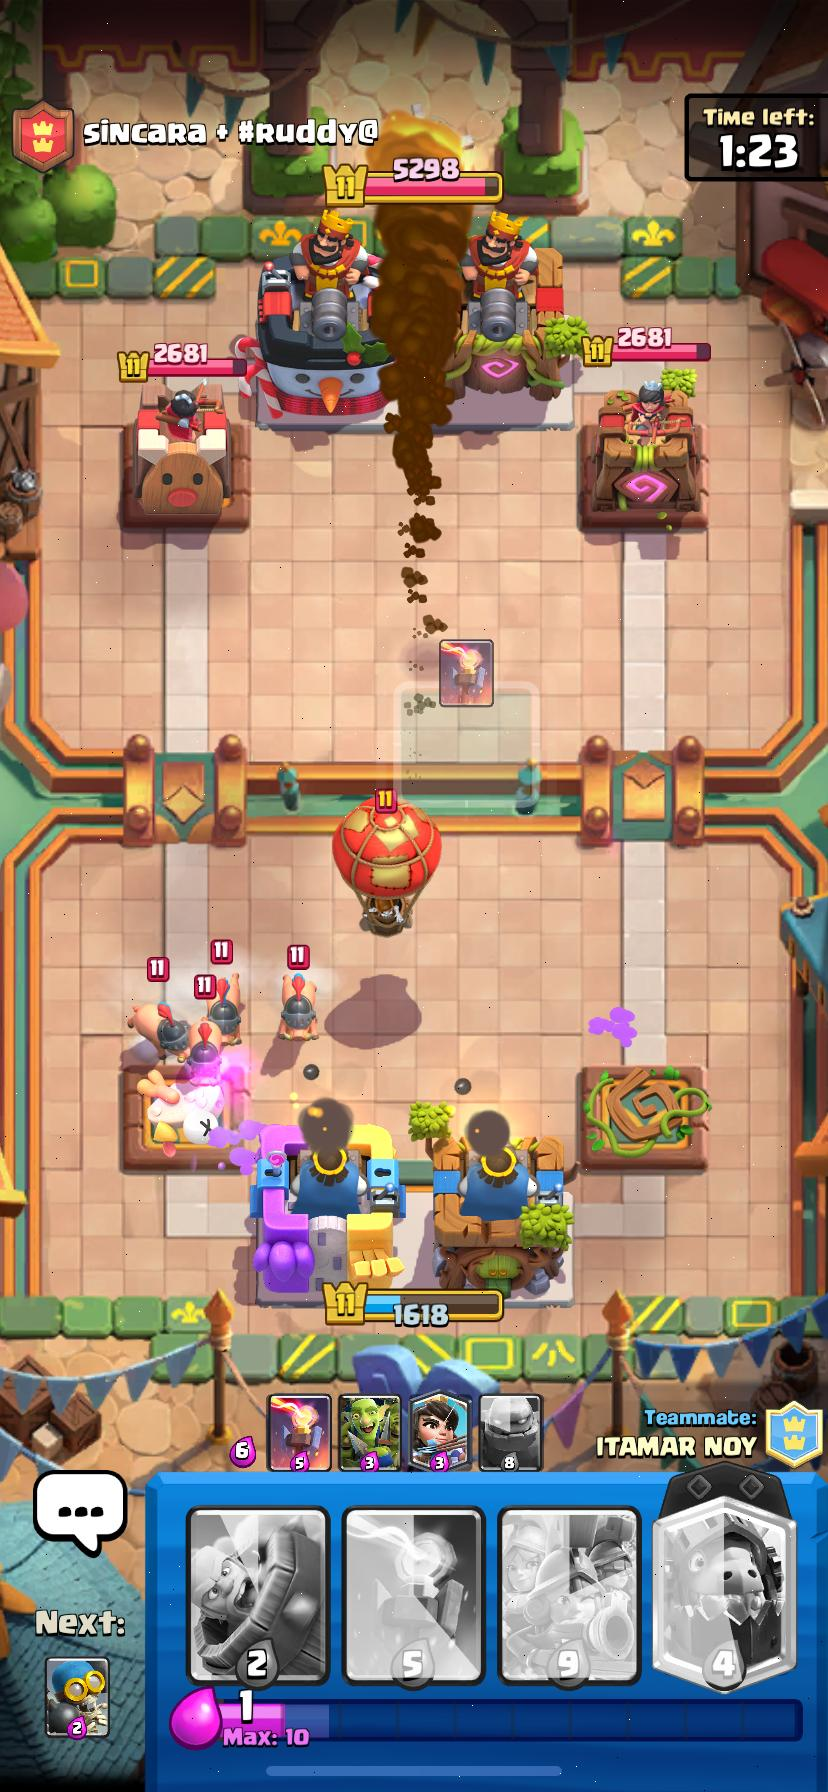EBalloon: (333, 791, 441, 933)
EKingTower: (238, 209, 391, 427), (447, 213, 578, 427)
ERoyalHog: (128, 1003, 189, 1061), (277, 973, 317, 1043), (206, 973, 239, 1047), (188, 1019, 221, 1083)
EnemyPrincessTower: (122, 383, 250, 528), (578, 385, 706, 529)
OwnKingTower: (252, 1123, 405, 1304), (432, 1112, 572, 1295)
TowerDown: (578, 1065, 709, 1170), (124, 1063, 247, 1173)
